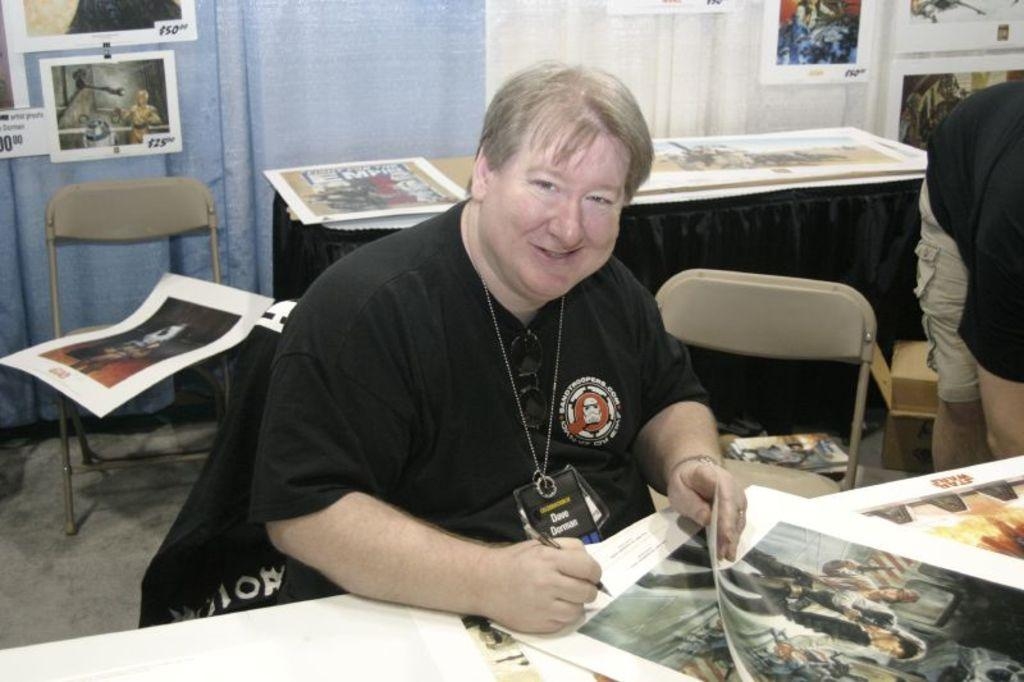no_helmet: (458, 144, 652, 220)
none: (309, 285, 686, 492)
